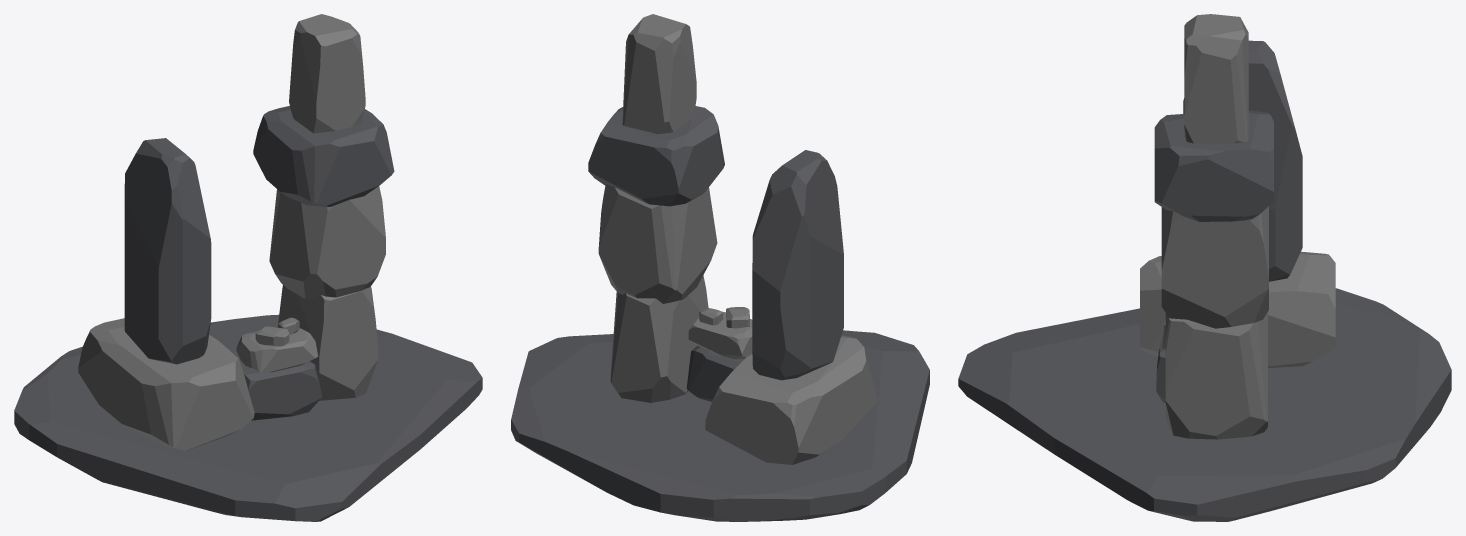
The model's file is rocks_06.glb.
3 renders of one model, left to right at view 1: azimuth 30°, elevation 25°; view 2: azimuth 150°, elevation 25°; view 3: azimuth 270°, elevation 25°, orthographic. The views are drawn at different scales.
Parts seen in each view (by area): view 1: rocks_06; view 2: rocks_06; view 3: rocks_06.
Boxes of the visible parts, x1,y1,x2,y2 form: rocks_06: [14, 14, 482, 521]; rocks_06: [511, 14, 929, 521]; rocks_06: [958, 14, 1451, 521].
Size of the model in its own units: 3.46 by 3.29 by 3.34.
Materials: 1 (1 with a texture image).
